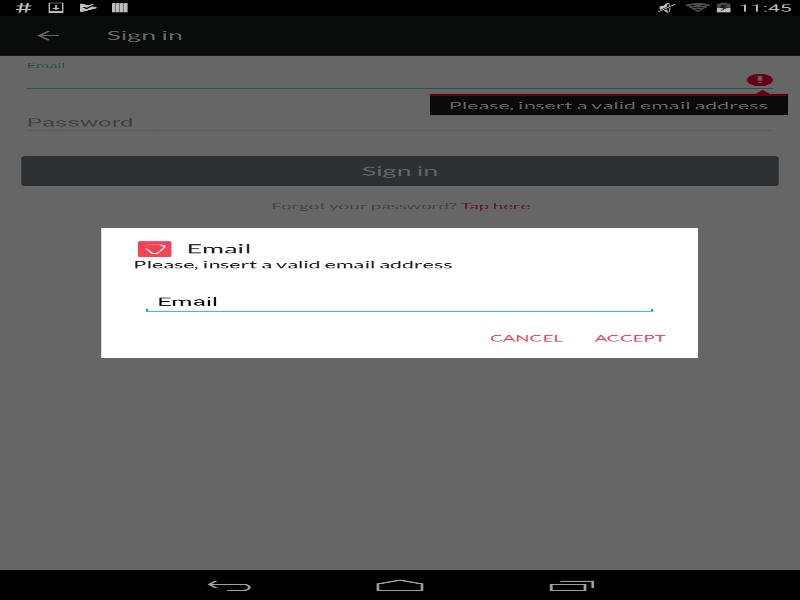Button: (473, 321, 578, 355), (578, 321, 682, 355)
Input: (141, 289, 658, 313)
